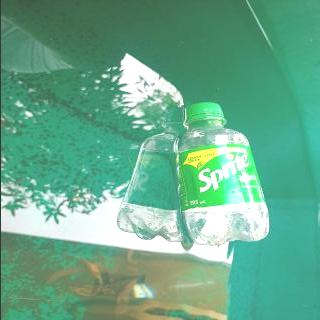bottle: (171, 100, 272, 248)
